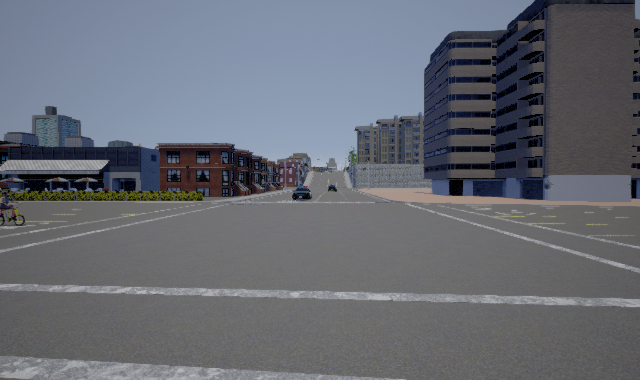bike: (1, 188, 27, 228)
vehicle: (292, 184, 312, 200), (327, 183, 337, 192)
